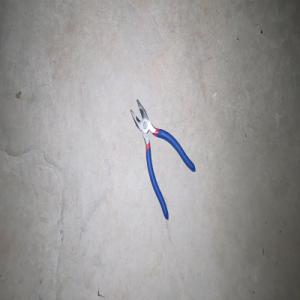Pliers: (130, 98, 195, 220)
